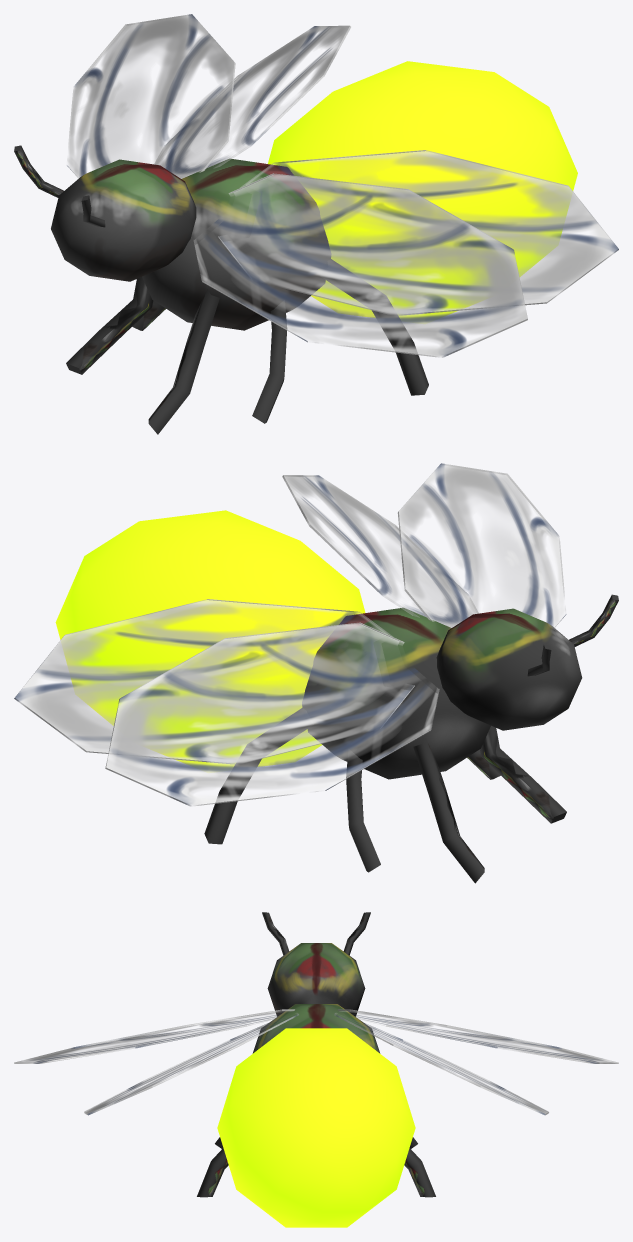
File: luluciole.glb
3 renders of one model, top to bottom at view 1: azimuth 30°, elevation 25°; view 2: azimuth 150°, elevation 25°; view 3: azimuth 270°, elevation 25°, orthographic. The views are drawn at different scales.
Visible parts, largest first — view 1: Circle.007, Icosphere, Circle.006, Icosphere.001, Icosphere.003, BézierCurve, BézierCurve.002, BézierCurve.001, BézierCurve.003; view 2: Circle.007, Icosphere, Circle.006, Icosphere.001, Icosphere.003, BézierCurve, BézierCurve.002, BézierCurve.001, BézierCurve.003; view 3: Icosphere, Circle.007, Icosphere.003, Circle.006, Icosphere.001, BézierCurve.002, BézierCurve.003.
Boxes of the visible parts, box(x1,y1,x2,y2) form: Circle.007: box(67, 14, 527, 357); Icosphere: box(268, 61, 577, 318); Circle.006: box(154, 25, 618, 315); Icosphere.001: box(142, 158, 330, 330); Icosphere.003: box(51, 159, 196, 281); BézierCurve: box(66, 277, 219, 434); BézierCurve.002: box(320, 258, 428, 395); BézierCurve.001: box(132, 300, 287, 423); BézierCurve.003: box(14, 145, 105, 227); Circle.007: box(105, 463, 566, 806); Icosphere: box(55, 510, 365, 767); Circle.006: box(14, 475, 478, 763); Icosphere.001: box(302, 607, 490, 779); Icosphere.003: box(436, 608, 582, 730); BézierCurve: box(413, 725, 566, 883); BézierCurve.002: box(204, 708, 313, 844); BézierCurve.001: box(346, 749, 500, 872); BézierCurve.003: box(527, 594, 618, 676); Icosphere: box(217, 1028, 415, 1227); Circle.007: box(14, 1009, 618, 1063); Icosphere.003: box(267, 943, 365, 1016); Circle.006: box(84, 1013, 548, 1115); Icosphere.001: box(252, 1004, 380, 1053); BézierCurve.002: box(197, 1148, 435, 1197); BézierCurve.003: box(262, 912, 370, 955).
Size of the model in its own units: 1.3 by 0.6249 by 1.77.
3 materials, 2 textured.
